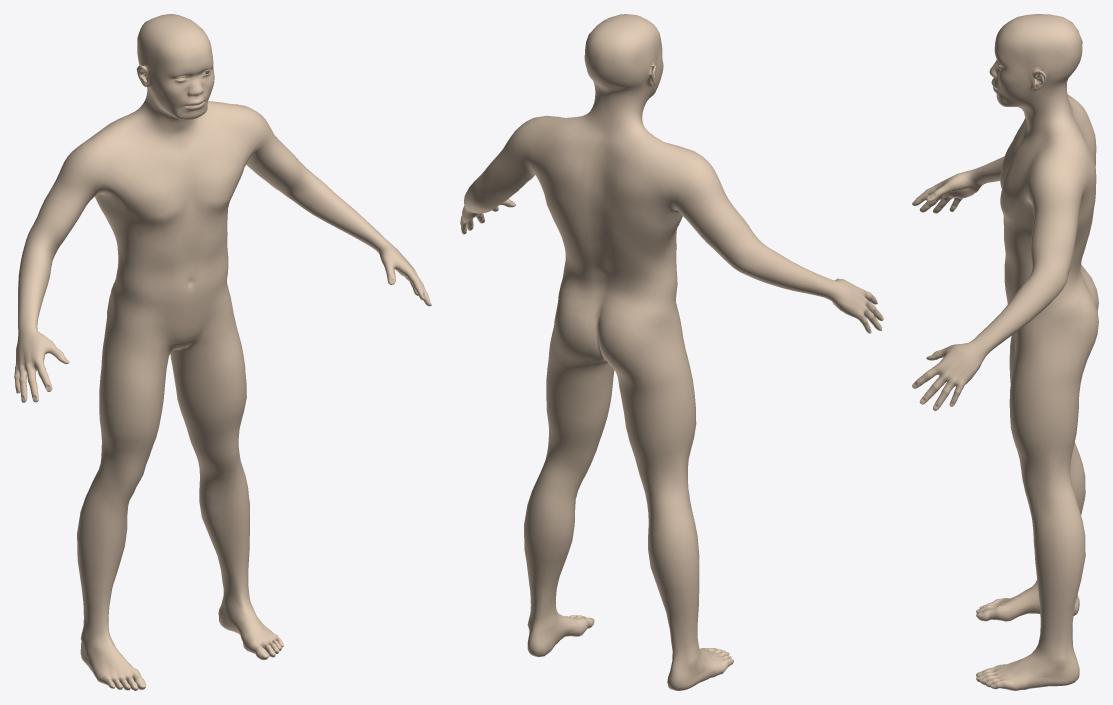
Rendered from an_body.fbx.
3 views of the same model, side by side, from view 1: azimuth 30°, elevation 25°; view 2: azimuth 150°, elevation 25°; view 3: azimuth 270°, elevation 25° (orthographic).
Visible parts, largest first — view 1: Human; view 2: Human; view 3: Human.
Part boxes in pixels (box(x1,y1,x2,y2)): Human: box(14, 14, 431, 690); Human: box(460, 14, 883, 690); Human: box(912, 14, 1098, 690).
Bounding box in the file's own units: 121 × 180 × 48.27.
